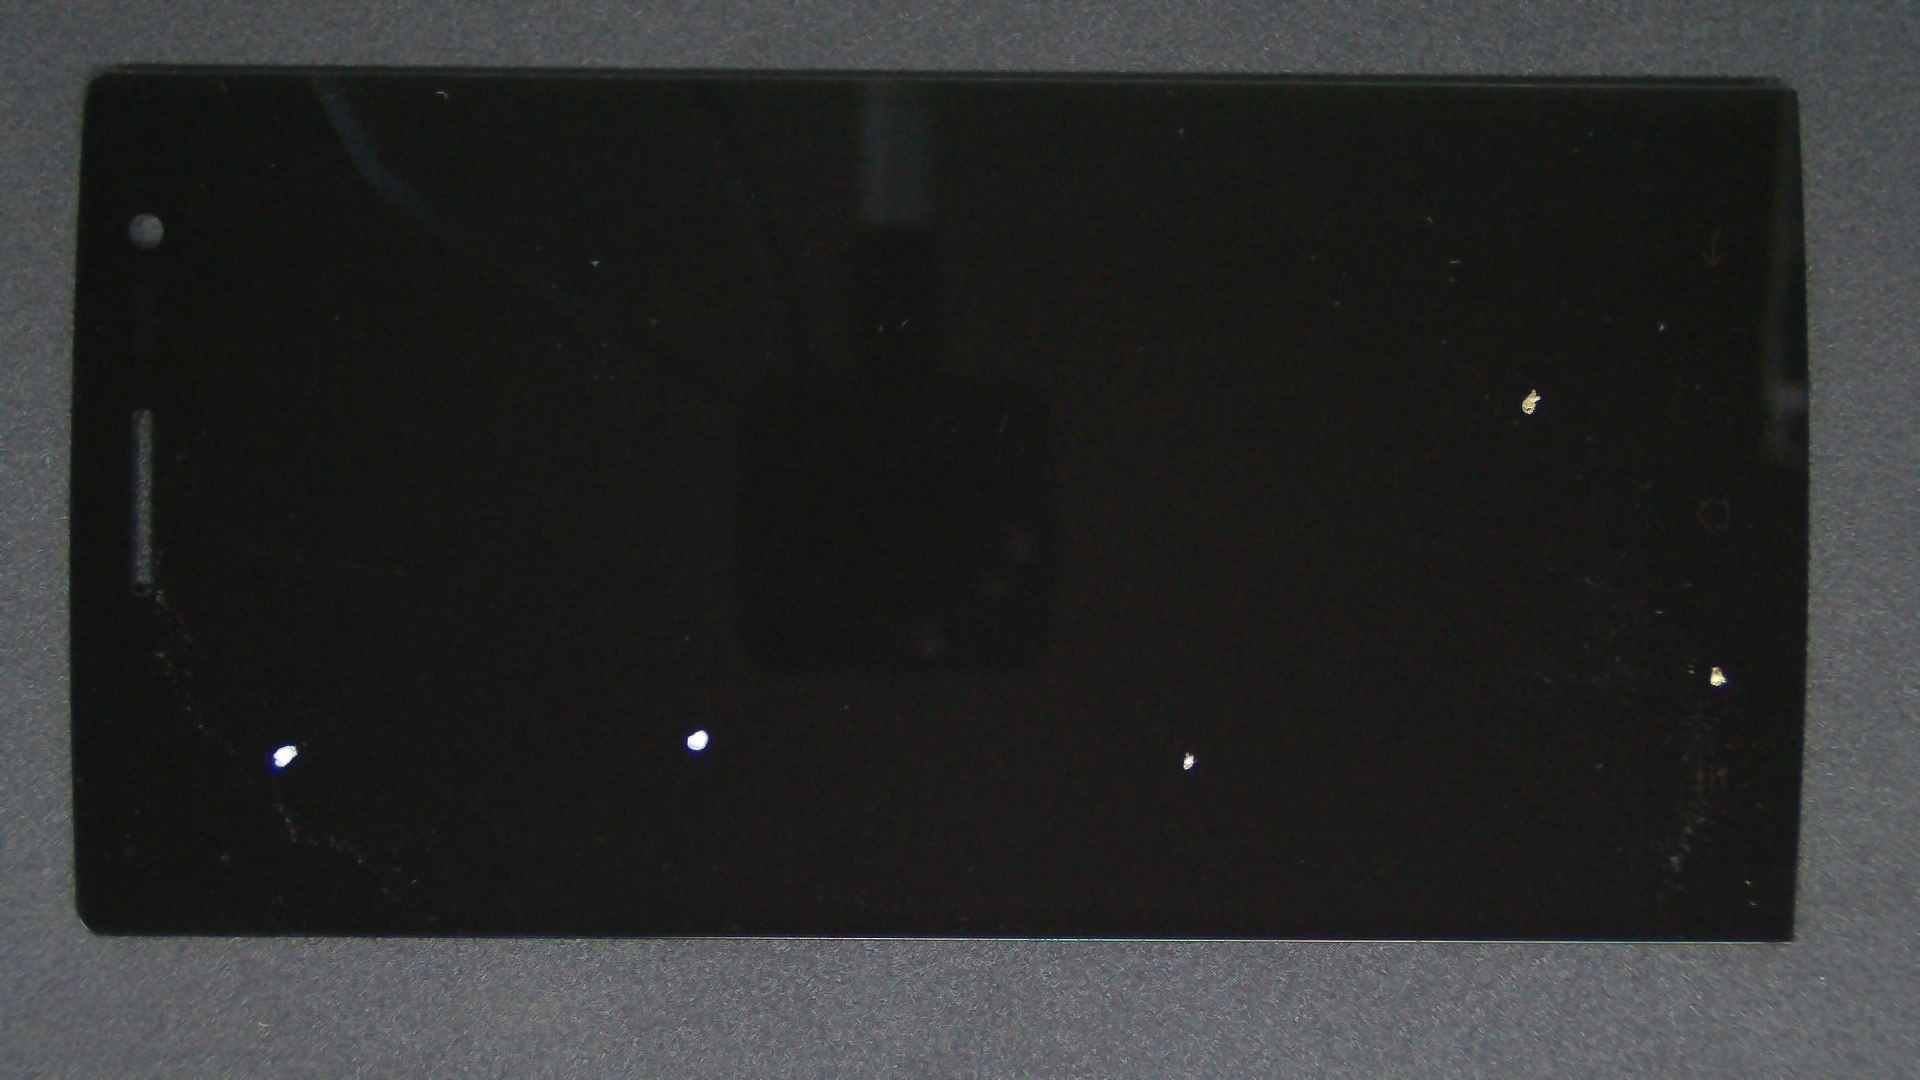oil: (592, 375, 1778, 1080), (858, 332, 1920, 998), (352, 364, 1052, 1080), (766, 194, 1920, 583), (144, 372, 429, 1080)
